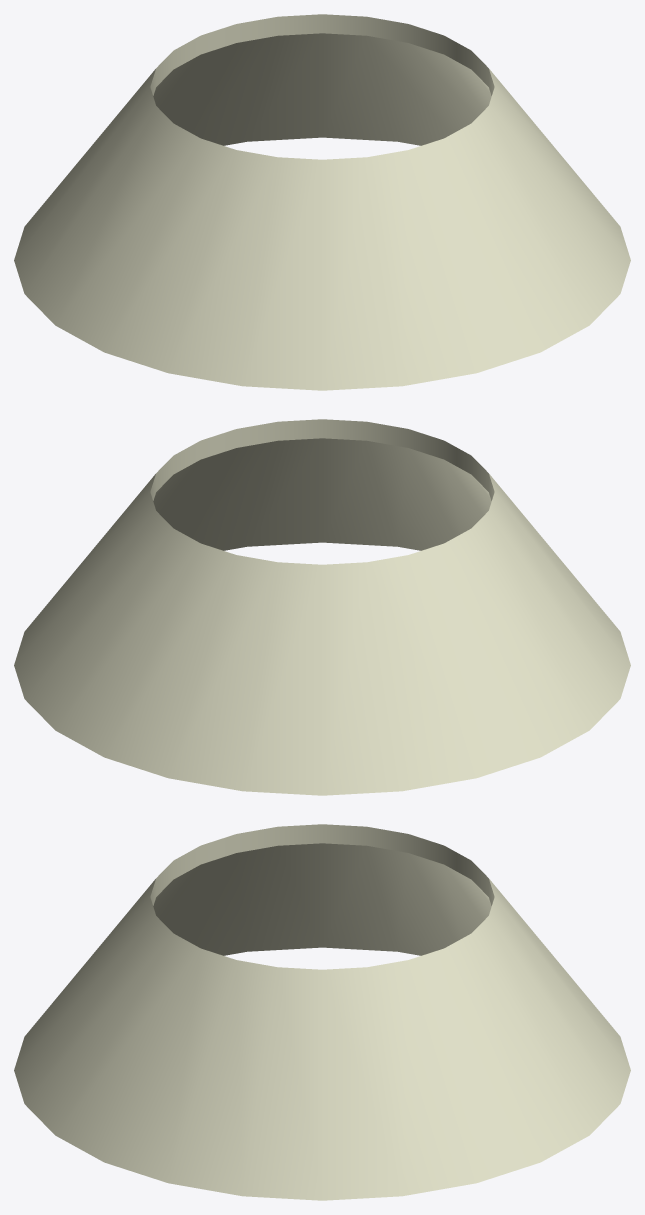
The picture shows the model from 3 angles, top to bottom: view 1: azimuth 30°, elevation 25°; view 2: azimuth 150°, elevation 25°; view 3: azimuth 270°, elevation 25°; orthographic projection.
Parts seen in each view (by area): view 1: SketchUp; view 2: SketchUp; view 3: SketchUp.
Boxes of the visible parts, bbox=[...] form: SketchUp: bbox=[14, 14, 630, 390]; SketchUp: bbox=[14, 419, 630, 795]; SketchUp: bbox=[14, 824, 630, 1200].
Size of the model in its own units: 142 by 142 by 44.19.
